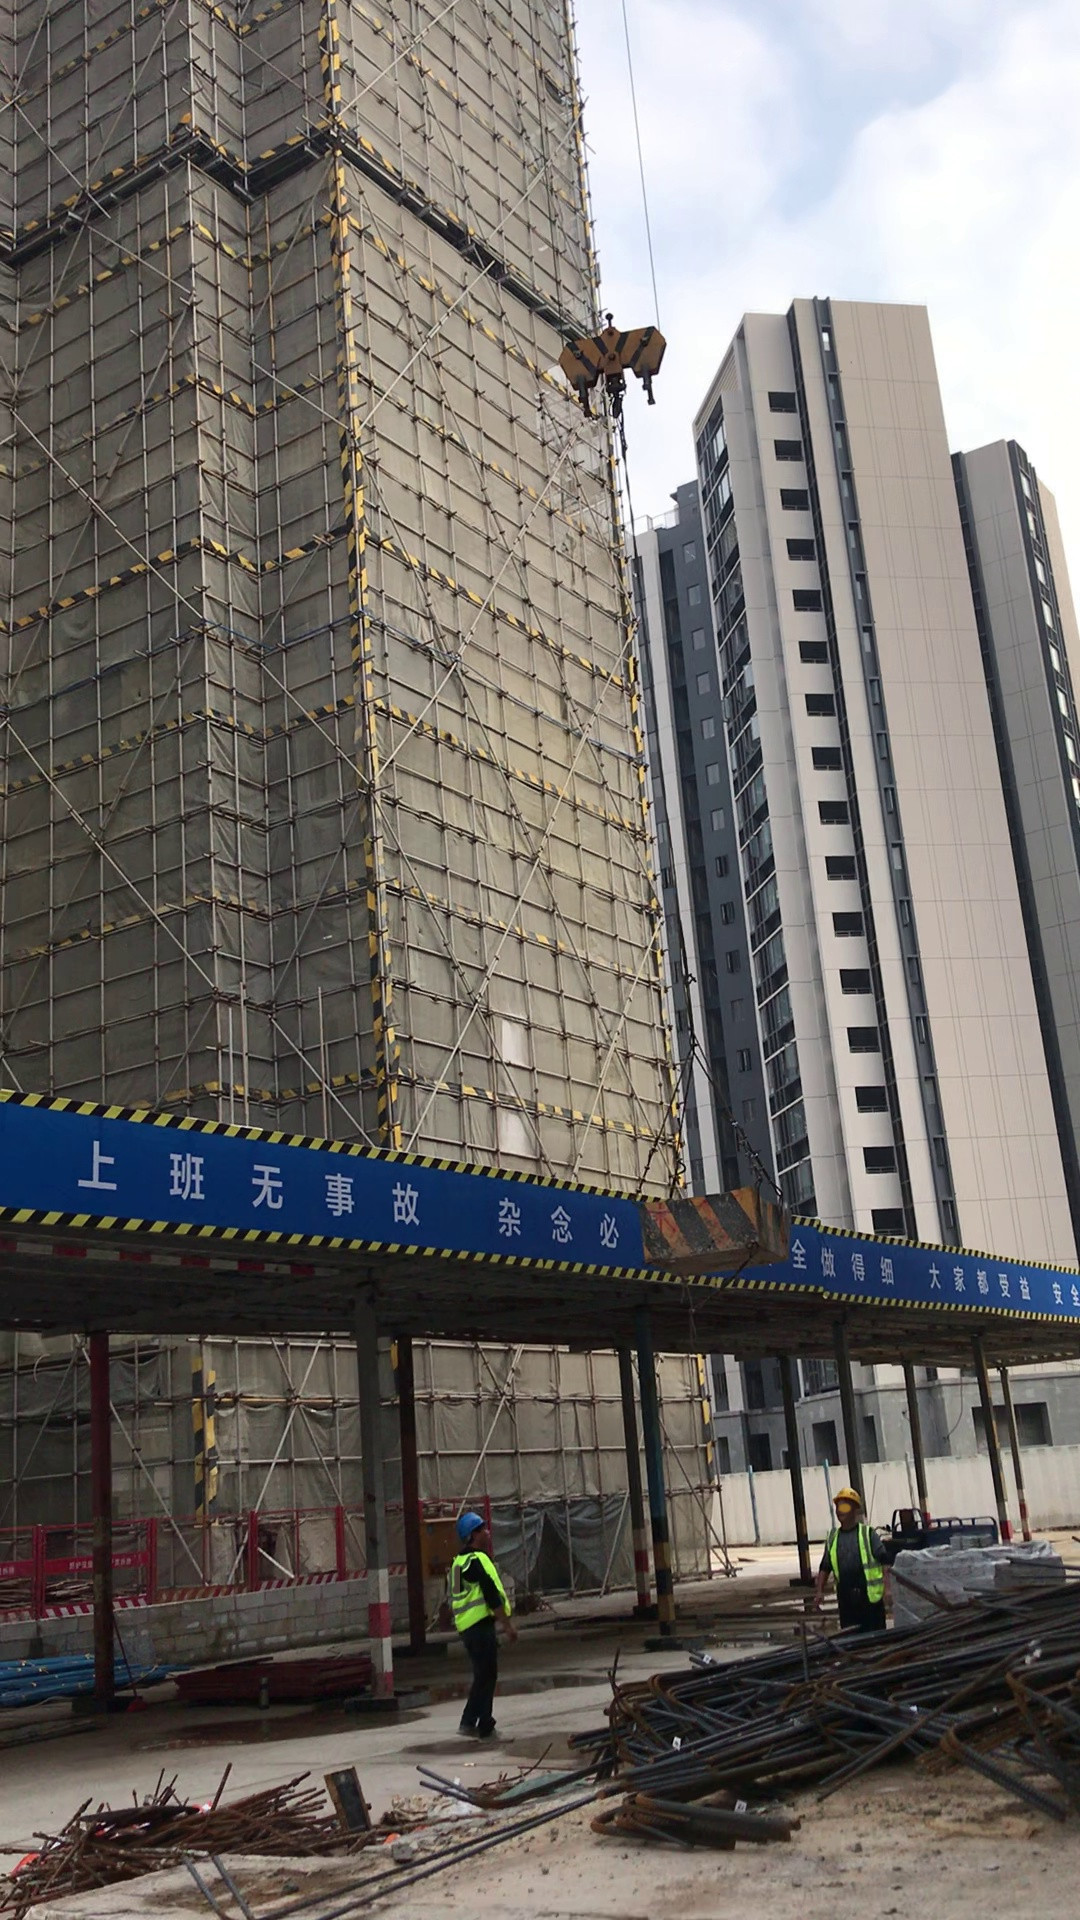fence: (1, 1498, 490, 1626)
helmet: (454, 1511, 487, 1538), (831, 1486, 867, 1509)
hook: (564, 295, 684, 422)
hopper: (632, 1172, 797, 1272)
person: (428, 1508, 525, 1739), (804, 1488, 902, 1632)
slogan: (11, 1087, 1080, 1324)
vest: (826, 1527, 889, 1603), (453, 1555, 508, 1629)
